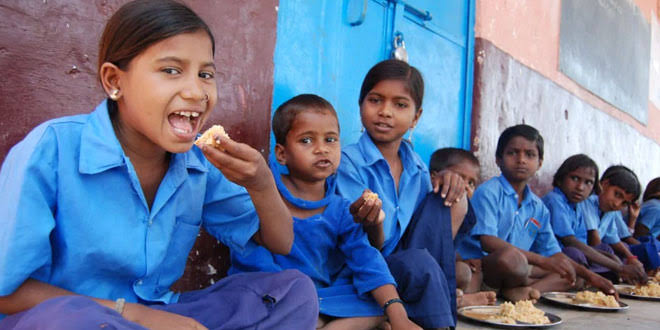student: (94, 1, 224, 155), (267, 99, 348, 179), (359, 63, 423, 140), (495, 120, 544, 189), (428, 140, 483, 193), (557, 151, 598, 206), (605, 159, 639, 215), (644, 176, 660, 197)
